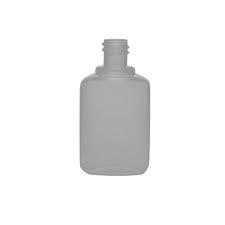Container for household chemicals: (68, 28, 166, 185)
